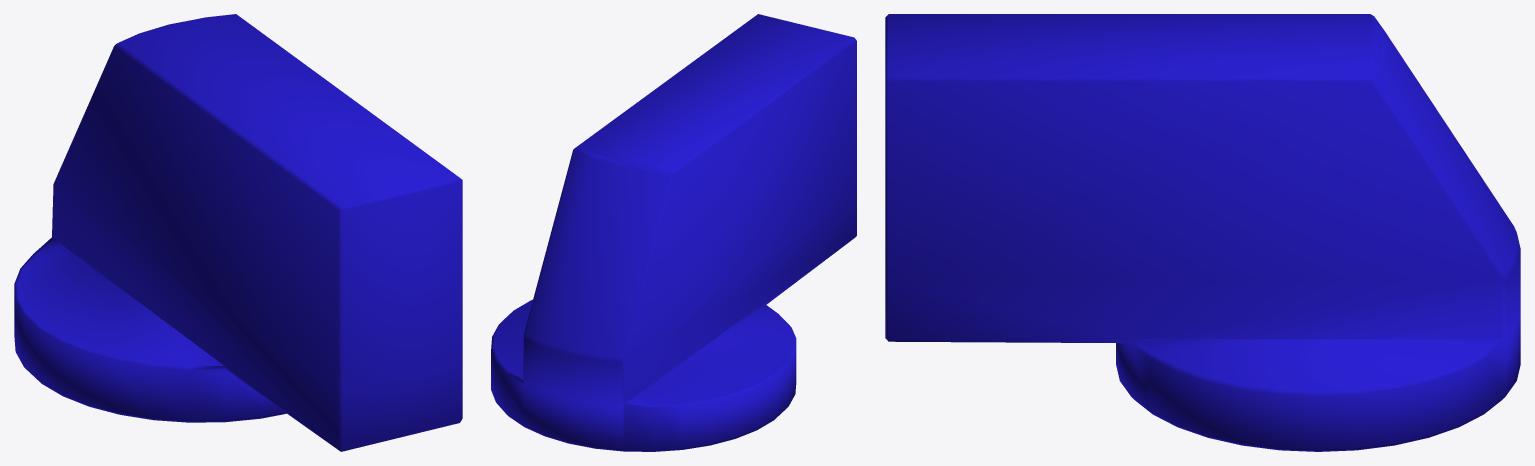
Rendered from Switch.fbx.
The picture shows the model from 3 angles, left to right: view 1: azimuth 30°, elevation 25°; view 2: azimuth 150°, elevation 25°; view 3: azimuth 270°, elevation 25°; orthographic projection. The views are drawn at different scales.
Parts seen in each view (by area): view 1: Switch_LP_UE4; view 2: Switch_LP_UE4; view 3: Switch_LP_UE4.
Boxes of the visible parts, x1=… form: Switch_LP_UE4: x1=14, y1=14, x2=462, y2=451; Switch_LP_UE4: x1=491, y1=14, x2=856, y2=451; Switch_LP_UE4: x1=885, y1=14, x2=1520, y2=451.
Size of the model in its own units: 7.36 by 4.69 by 4.13.
